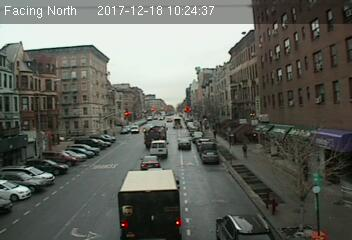car: (139, 155, 160, 169), (201, 149, 219, 163), (176, 138, 192, 149)
truck: (150, 141, 168, 155)
ups: (116, 169, 186, 238)
